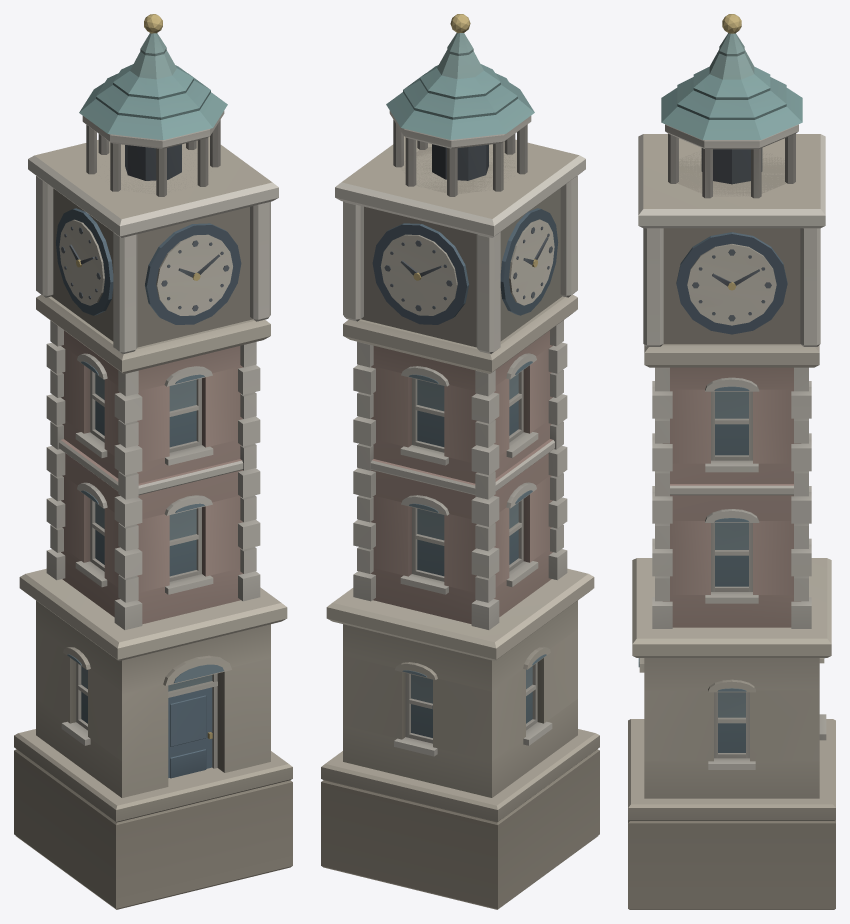
Rendered from clock.glb.
The picture shows the model from 3 angles, left to right: view 1: azimuth 30°, elevation 25°; view 2: azimuth 150°, elevation 25°; view 3: azimuth 270°, elevation 25°; orthographic projection.
Size of the model in its own units: 3.44 by 15.57 by 3.44.
